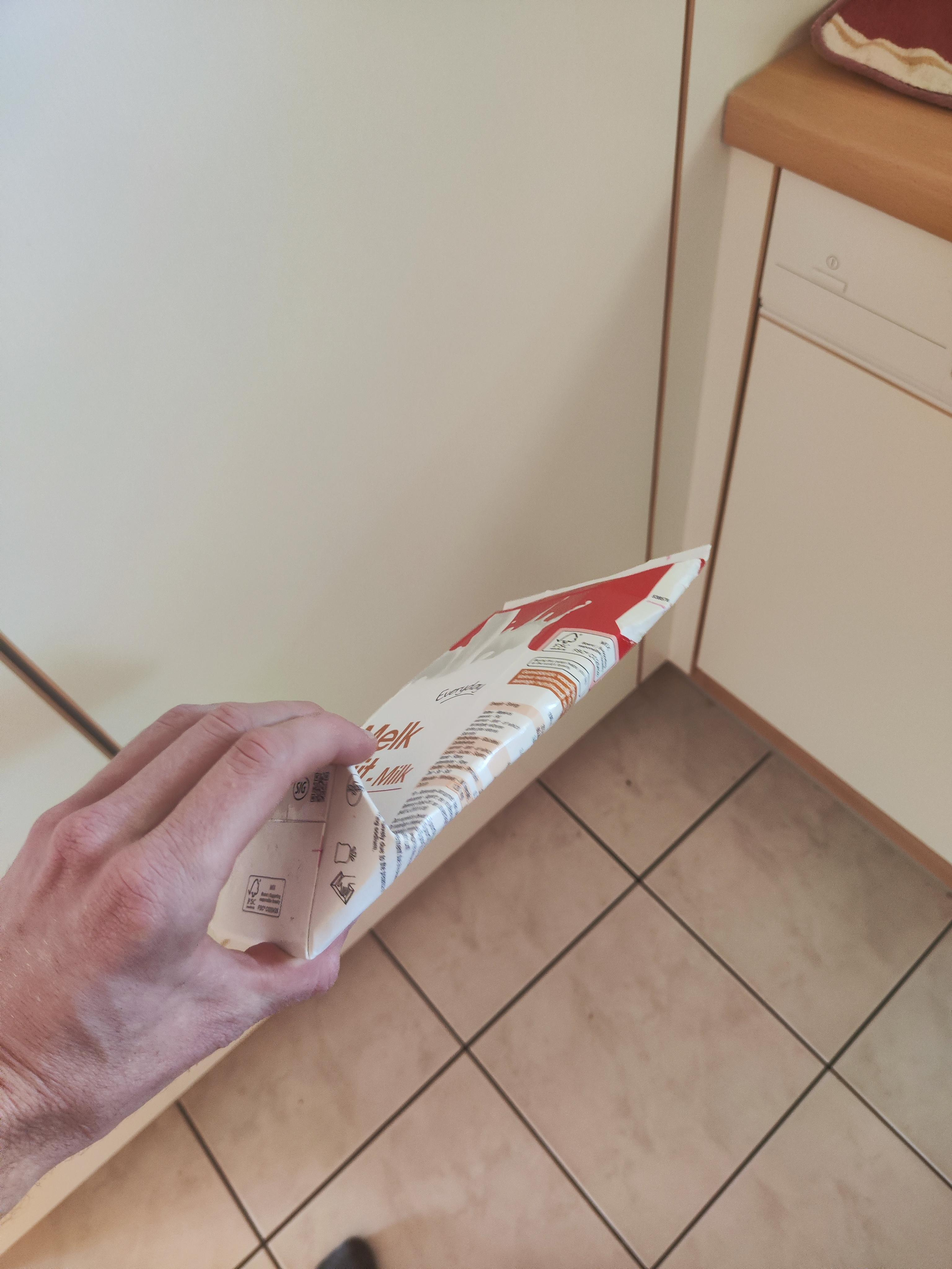Cardboard: (209, 541, 719, 959)
